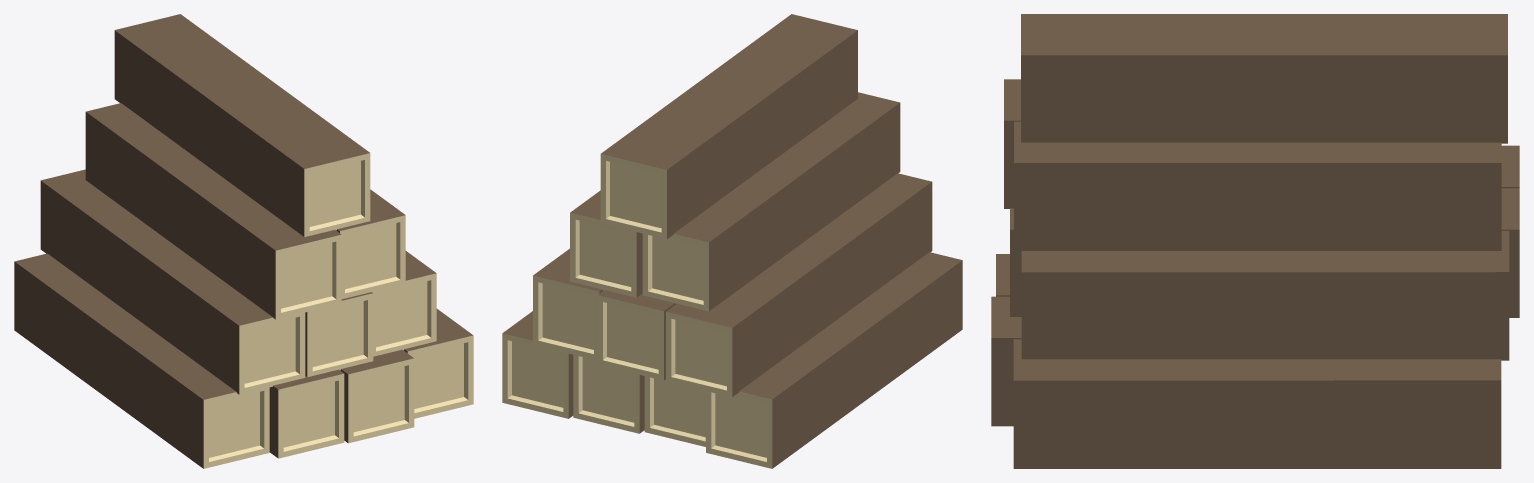
File: SM_Lumber_01_A.fbx
3 renders of one model, left to right at view 1: azimuth 30°, elevation 25°; view 2: azimuth 150°, elevation 25°; view 3: azimuth 270°, elevation 25°, orthographic. The views are drawn at different scales.
Visible parts, largest first — view 1: pCube777; view 2: pCube777; view 3: pCube777.
Part boxes in pixels (box(x1,y1,x2,y2)): pCube777: box(14, 14, 473, 468); pCube777: box(502, 14, 962, 468); pCube777: box(991, 14, 1519, 468).
Bounding box in the file's own units: 57.43 × 55.92 × 76.26.
